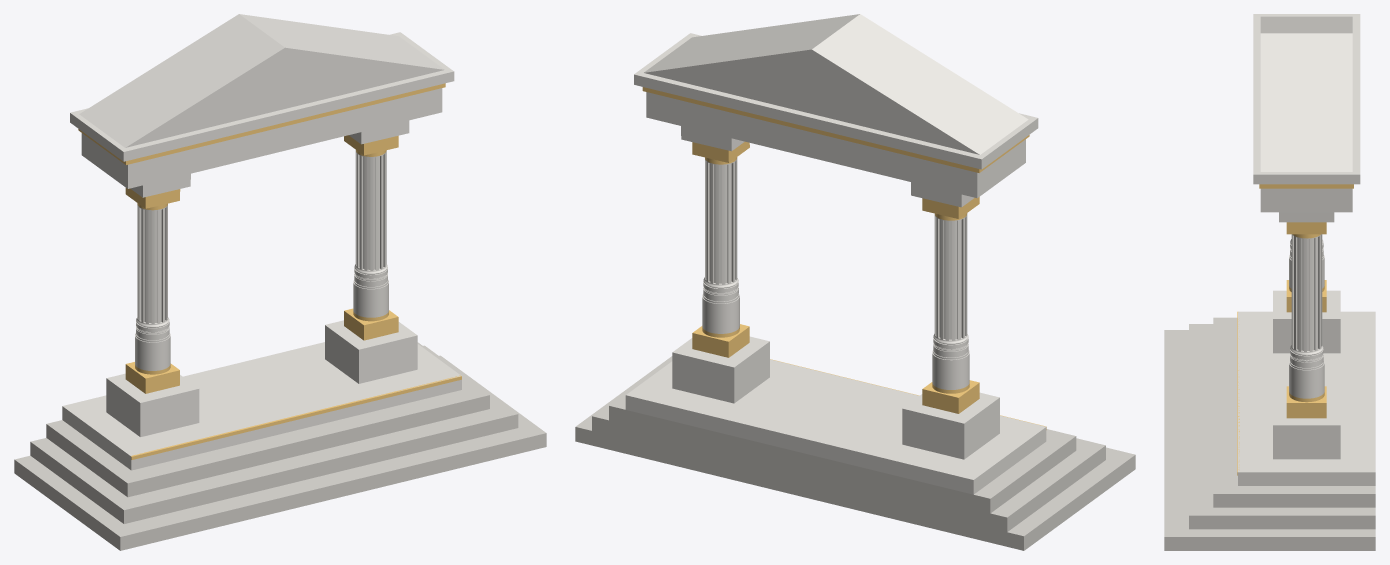
The model's file is portal_gate.glb.
The picture shows the model from 3 angles, left to right: view 1: azimuth 30°, elevation 25°; view 2: azimuth 150°, elevation 25°; view 3: azimuth 270°, elevation 25°; orthographic projection. The views are drawn at different scales.
Visible parts, largest first — view 1: Pediment, Floor, Step3, Step2, Step1, Pillar_R, Pillar_L, Architrave, Cornice, FloorTrim, Frieze; view 2: Pediment, Floor, Pillar_L, Pillar_R, Step3, Architrave, Step2, Step1, Cornice, Frieze; view 3: Floor, Pediment, Pillar_R, Step3, Step2, Step1, Cornice, Pillar_L, Architrave, Frieze.
Boxes of the visible parts, x1,y1,x2,y2 form: Pediment: [79, 14, 444, 147]; Floor: [62, 342, 461, 470]; Step3: [14, 355, 546, 550]; Step2: [30, 345, 518, 523]; Step1: [46, 342, 489, 497]; Pillar_R: [325, 120, 417, 383]; Pillar_L: [106, 173, 199, 437]; Architrave: [81, 88, 442, 188]; Cornice: [70, 32, 454, 161]; FloorTrim: [131, 375, 461, 459]; Frieze: [78, 83, 445, 164]; Pediment: [644, 14, 1028, 154]; Floor: [625, 359, 1046, 494]; Pillar_L: [902, 182, 999, 459]; Pillar_R: [672, 126, 769, 403]; Step3: [575, 356, 1135, 550]; Architrave: [646, 92, 1025, 198]; Step2: [592, 358, 1105, 531]; Step1: [609, 359, 1076, 513]; Cornice: [634, 33, 1038, 169]; Frieze: [642, 87, 1029, 172]; Floor: [1238, 311, 1375, 485]; Pediment: [1260, 16, 1352, 171]; Pillar_R: [1273, 212, 1340, 459]; Step3: [1164, 330, 1375, 550]; Step2: [1189, 324, 1375, 529]; Step1: [1213, 317, 1375, 507]; Cornice: [1253, 14, 1360, 184]; Pillar_L: [1273, 239, 1340, 353]; Architrave: [1260, 188, 1352, 212]; Frieze: [1259, 184, 1353, 188].
Bounding box in the file's own units: 16.02 × 14.94 × 6.9.
